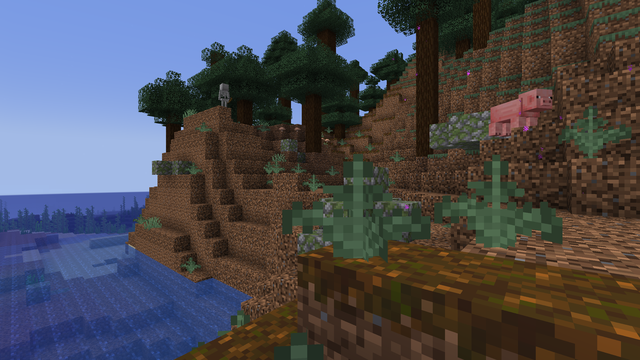cochons: (493, 95, 533, 136)
squelettes: (218, 82, 229, 104)
